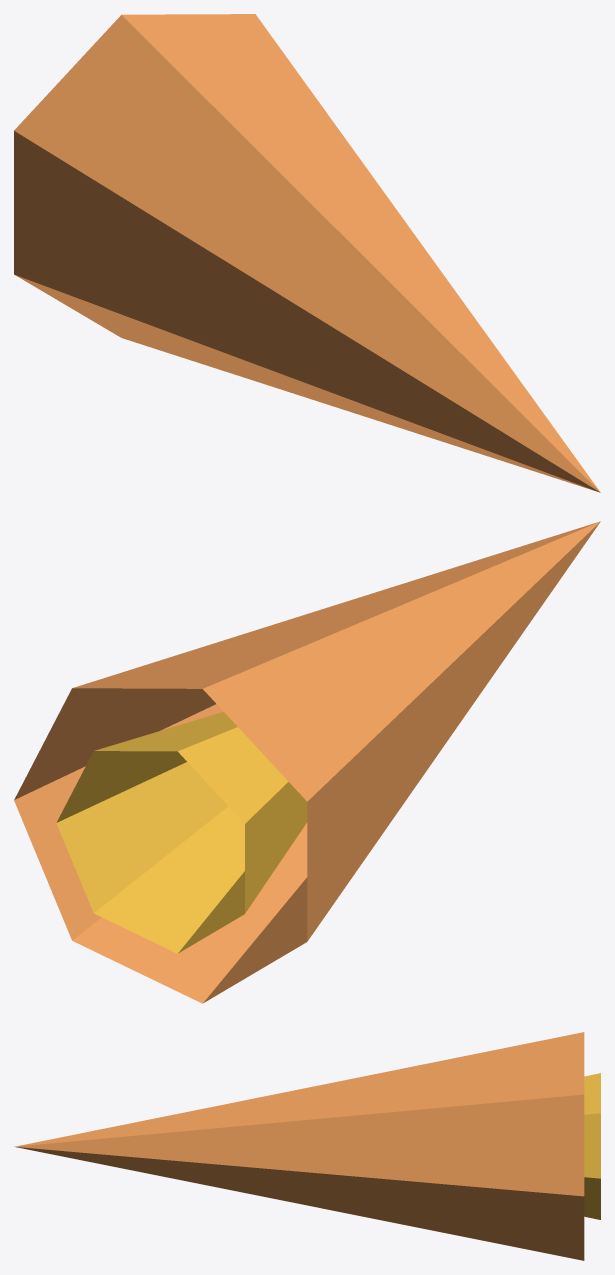
File: V_HeliRocketFlame.fbx
3 views of the same model, one above another, from view 1: azimuth 30°, elevation 25°; view 2: azimuth 150°, elevation 25°; view 3: azimuth 270°, elevation 25° (orthographic). The views are drawn at different scales.
Visible parts, largest first — view 1: V_HeliRocketFlame; view 2: V_HeliRocketFlame; view 3: V_HeliRocketFlame.
Part boxes in pixels (bbox=[...]): V_HeliRocketFlame: bbox=[14, 14, 600, 492]; V_HeliRocketFlame: bbox=[14, 521, 600, 1003]; V_HeliRocketFlame: bbox=[14, 1032, 600, 1260].
Bounding box in the file's own units: 0.1331 × 0.1365 × 0.35.
